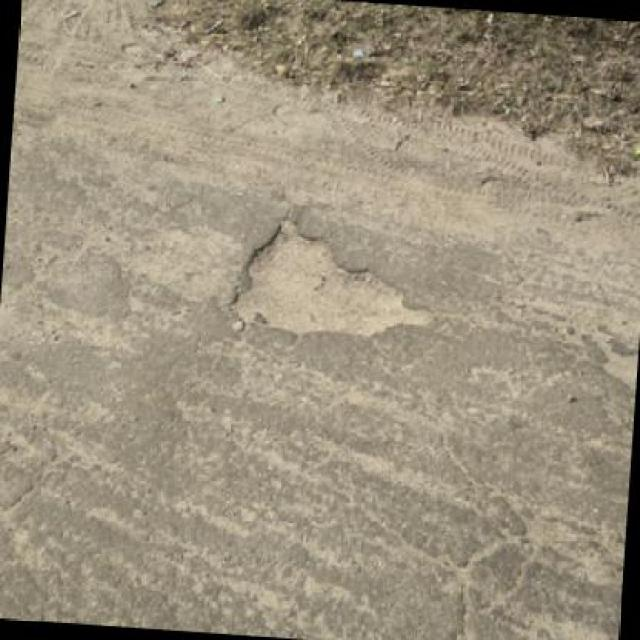pothole1: (225, 207, 442, 348)
